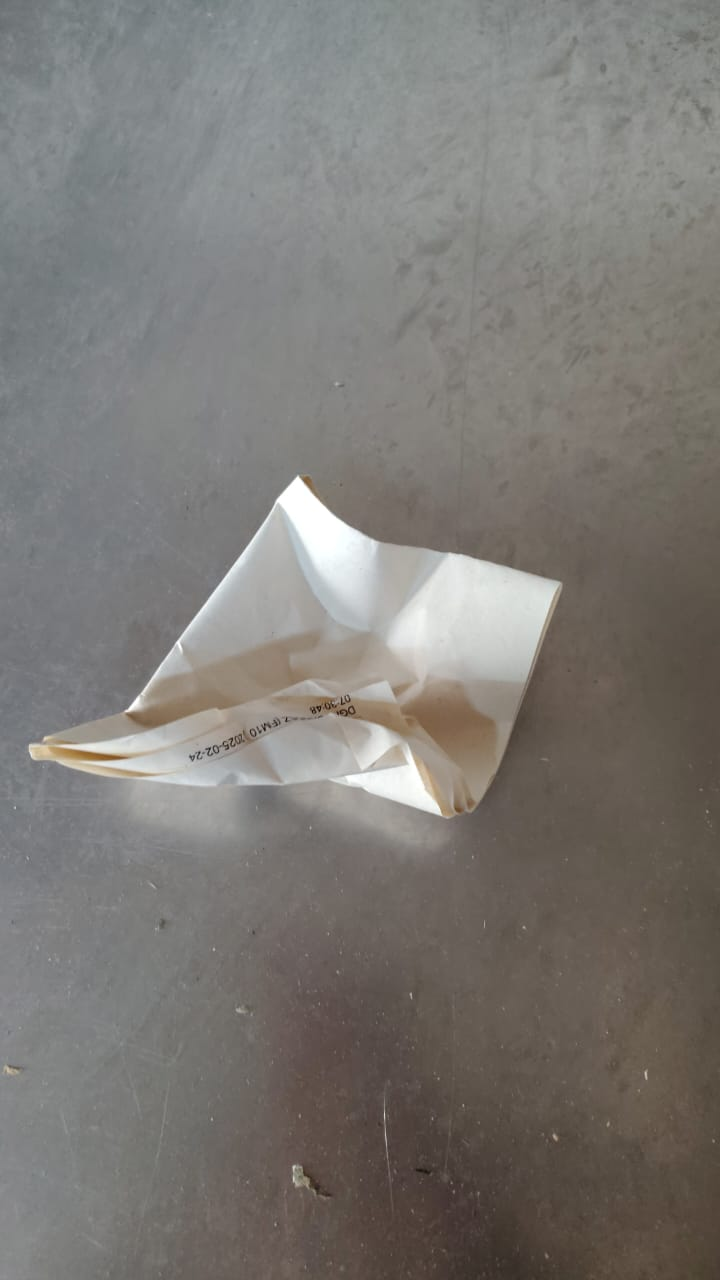Papel: (29, 471, 564, 819)
